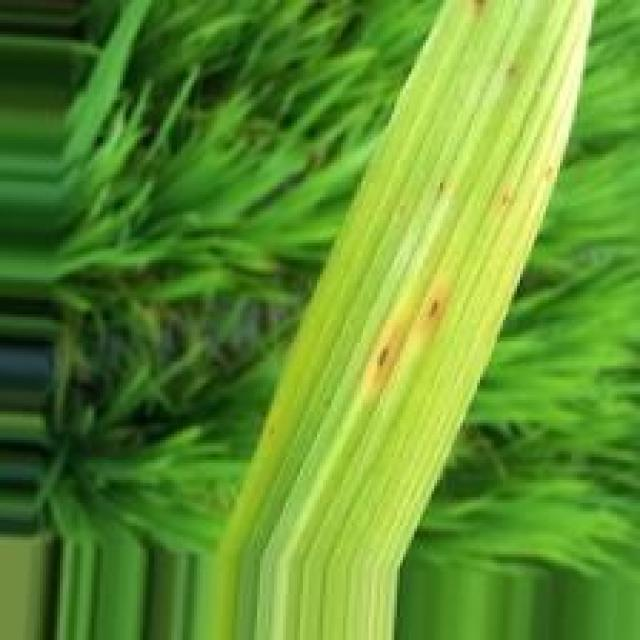Brown_Spot: (377, 347, 387, 370), (428, 296, 440, 309)
